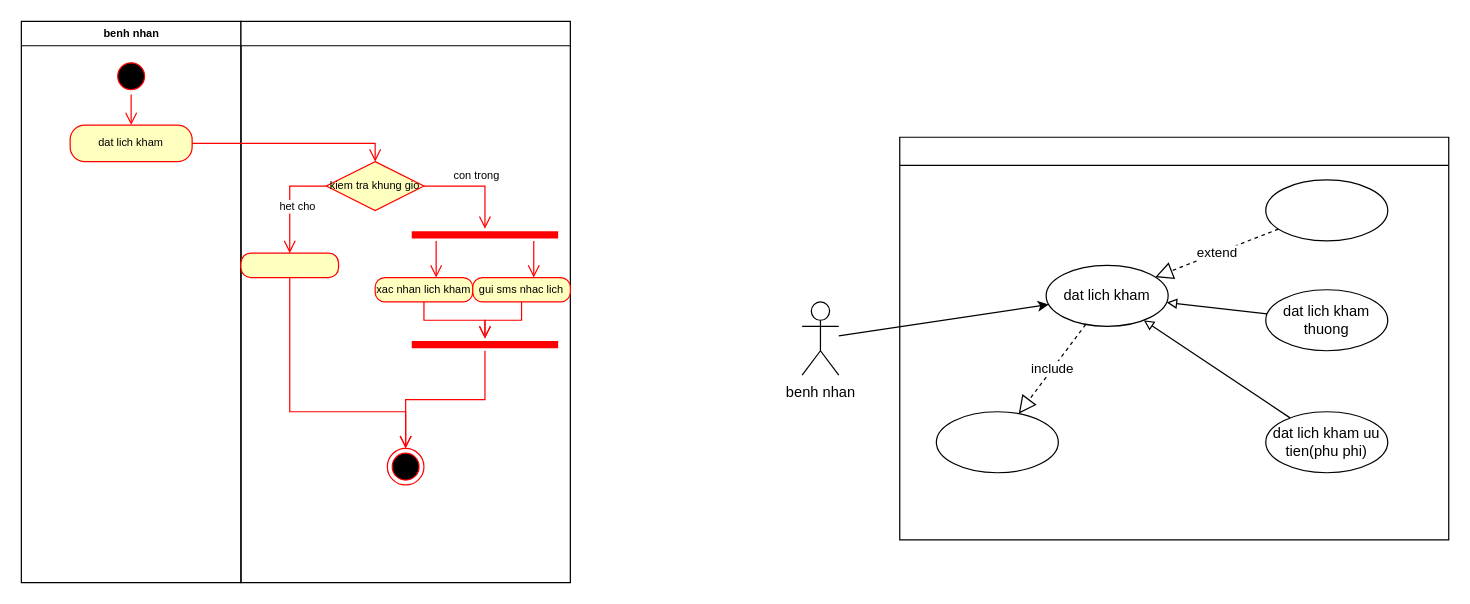
The diagram is 1470 pixels wide and 604 high, and some of its shapes have lost their labels. The shapes that lost their labels are listed below. From the top down, each one's box as (x1, y1, x2, y2) in pixels, then its label:
(1265, 179, 1388, 241): chon bac si chi dinh
(240, 252, 339, 278): bao chon khung gio khac
(240, 20, 570, 583): le tan
(899, 136, 1449, 540): rikkeicare
(935, 411, 1058, 473): dang nhap
